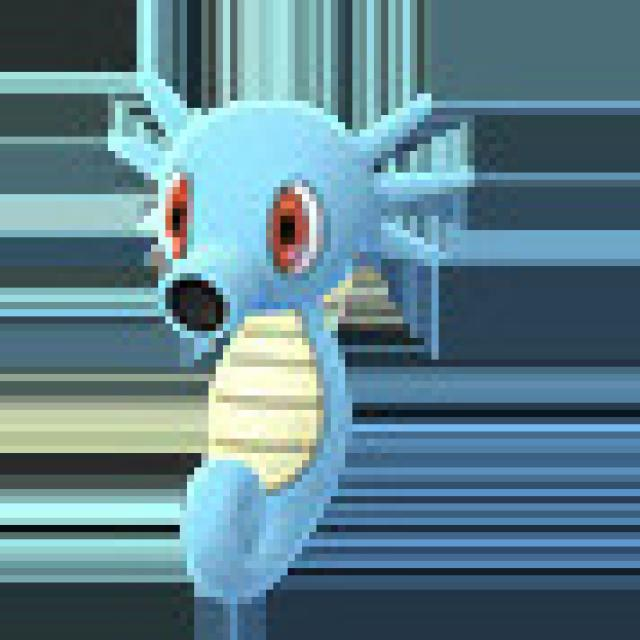Horsea: (105, 64, 486, 602)
